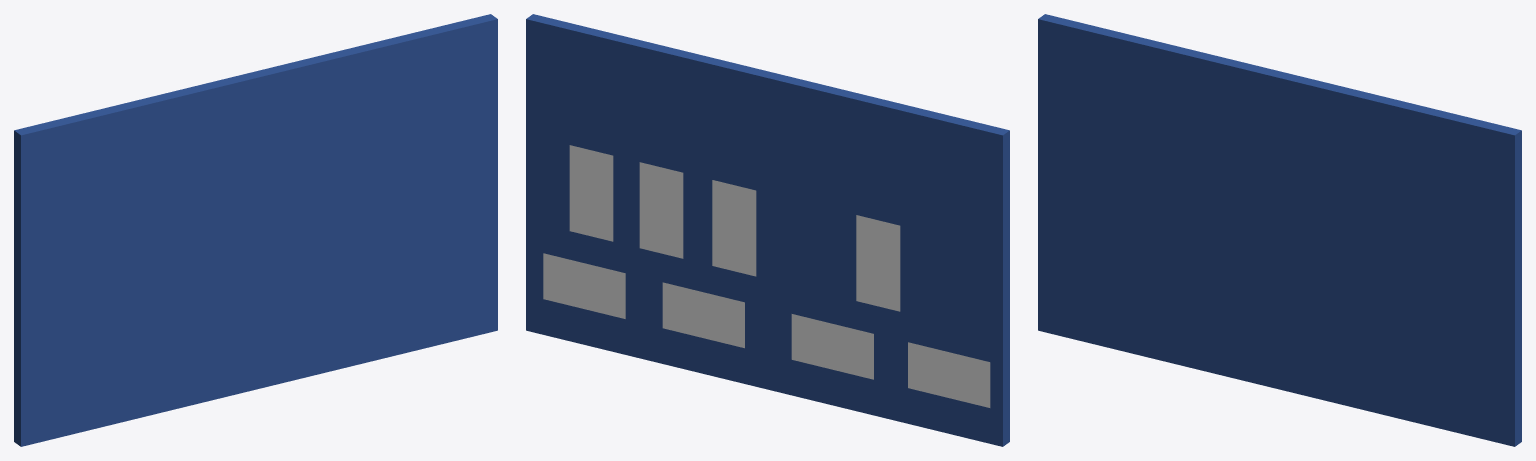
The model's file is SM_Board_01.FBX.
3 renders of one model, left to right at view 1: azimuth 30°, elevation 25°; view 2: azimuth 150°, elevation 25°; view 3: azimuth 330°, elevation 25°, orthographic.
Visible parts, largest first — view 1: SM_Board_01; view 2: SM_Board_01; view 3: SM_Board_01.
Boxes of the visible parts, left/top/right/bottom form: SM_Board_01: left=14, top=14, right=497, bottom=446; SM_Board_01: left=526, top=14, right=1009, bottom=446; SM_Board_01: left=1038, top=14, right=1521, bottom=446.
Bounding box in the file's own units: 238 × 7.27 × 148.
